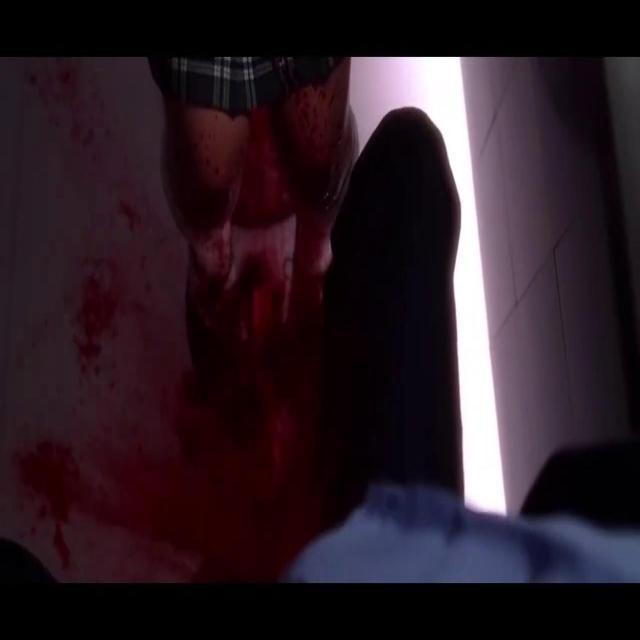flood: (27, 414, 249, 568)
